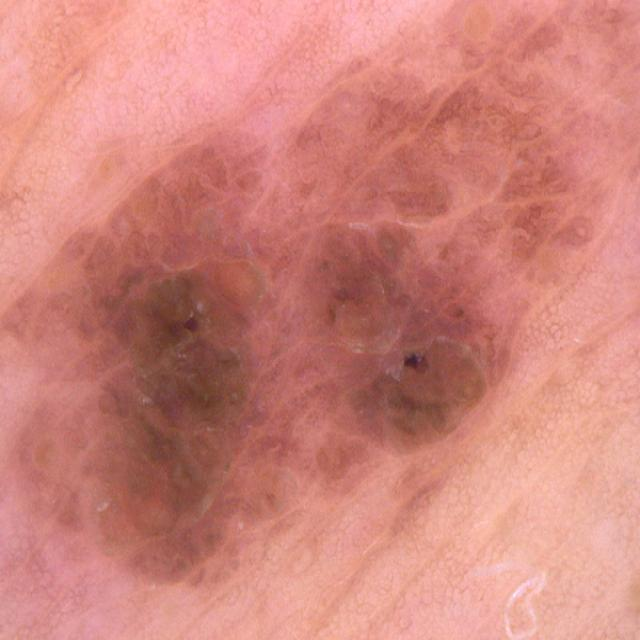Skin-Cancer Pigmented benign keratosis: (25, 24, 616, 622)
